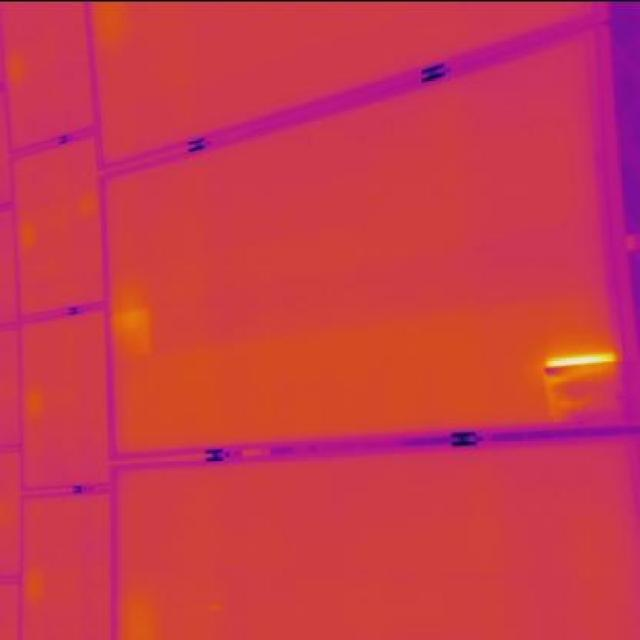hotspot: (540, 347, 628, 424)
